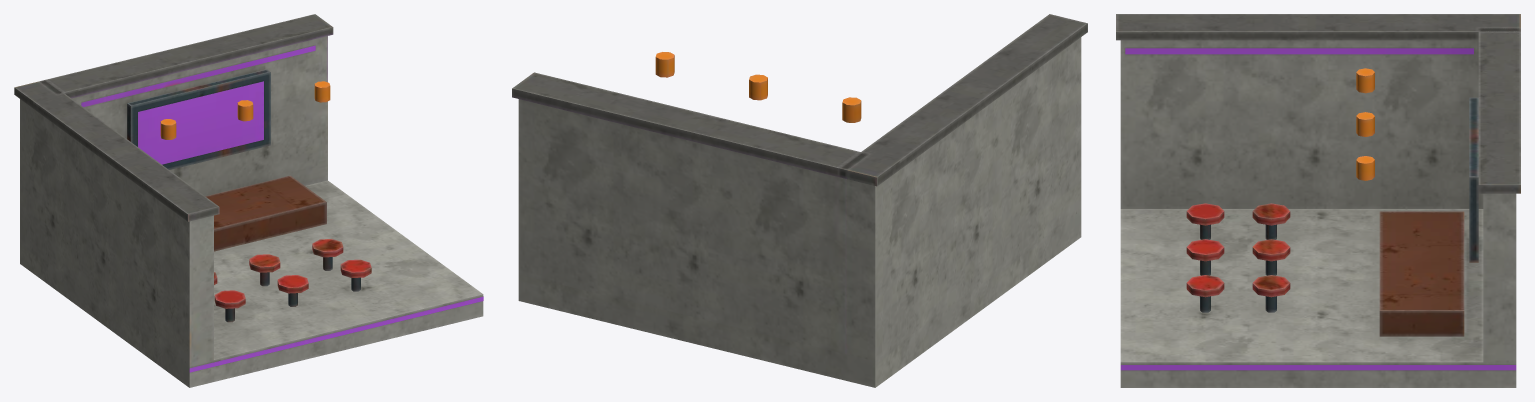
The model's file is entertainment_center.glb.
The picture shows the model from 3 angles, left to right: view 1: azimuth 30°, elevation 25°; view 2: azimuth 150°, elevation 25°; view 3: azimuth 270°, elevation 25°; orthographic projection. The views are drawn at different scales.
Parts seen in each view (by area): view 1: te_entertainment_center; view 2: te_entertainment_center; view 3: te_entertainment_center.
Boxes of the visible parts, x1,y1,x2,y2 form: te_entertainment_center: (14,14,483,387); te_entertainment_center: (512,14,1087,387); te_entertainment_center: (1116,14,1520,387).
Bounding box in the file's own units: 0.86 × 0.48 × 0.86.
1 material, 1 textured.
